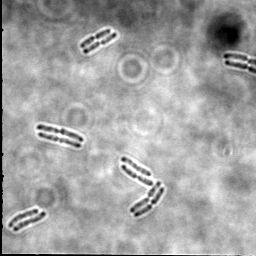Dividing: (130, 181, 162, 214), (133, 186, 166, 218), (36, 124, 86, 143), (82, 31, 118, 55), (37, 132, 82, 150), (121, 163, 154, 186), (13, 211, 47, 233), (79, 27, 112, 49), (8, 208, 40, 229), (120, 156, 152, 177), (224, 59, 255, 76), (223, 52, 255, 67)
